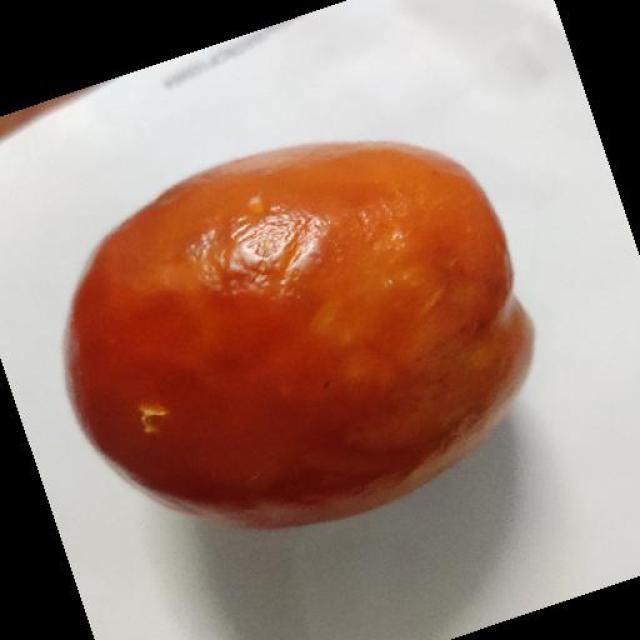Stale_tomato: (64, 189, 560, 505)
